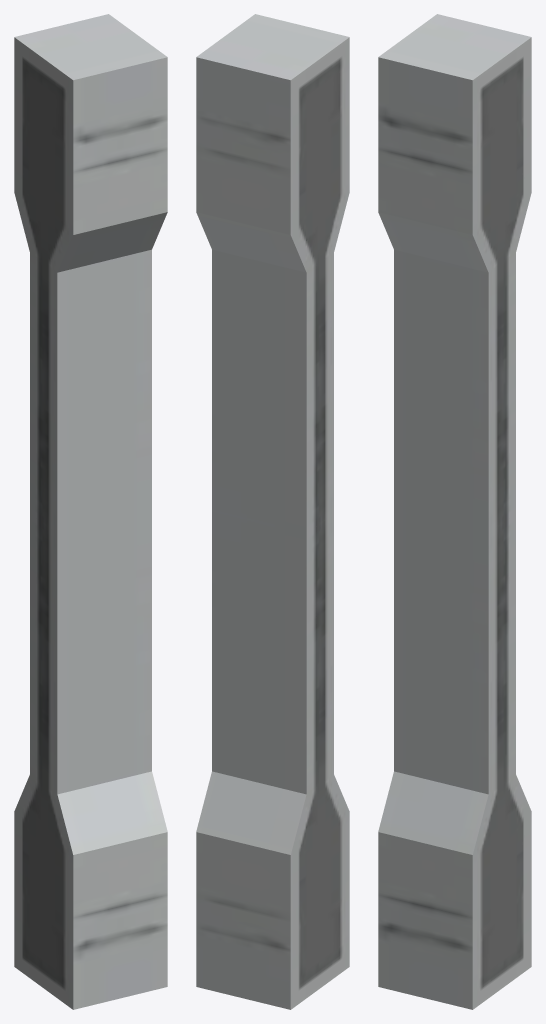
The model's file is Part - Column 06-Ccg5MEt7.glb.
3 renders of one model, left to right at view 1: azimuth 30°, elevation 25°; view 2: azimuth 150°, elevation 25°; view 3: azimuth 330°, elevation 25°, orthographic.
Parts seen in each view (by area): view 1: Column_06; view 2: Column_06; view 3: Column_06.
Part boxes in pixels (x1,y1,x2,y2): Column_06: (14, 14, 167, 1009); Column_06: (196, 14, 349, 1009); Column_06: (378, 14, 531, 1009).
Bounding box in the file's own units: 0.1219 × 1.14 × 0.1317.
1 material, 1 textured.
